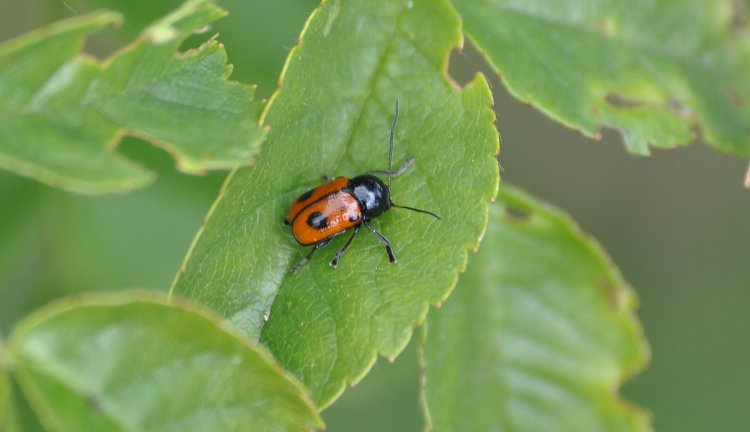Cryptocephalus_bipunctatus: (272, 97, 440, 268)
